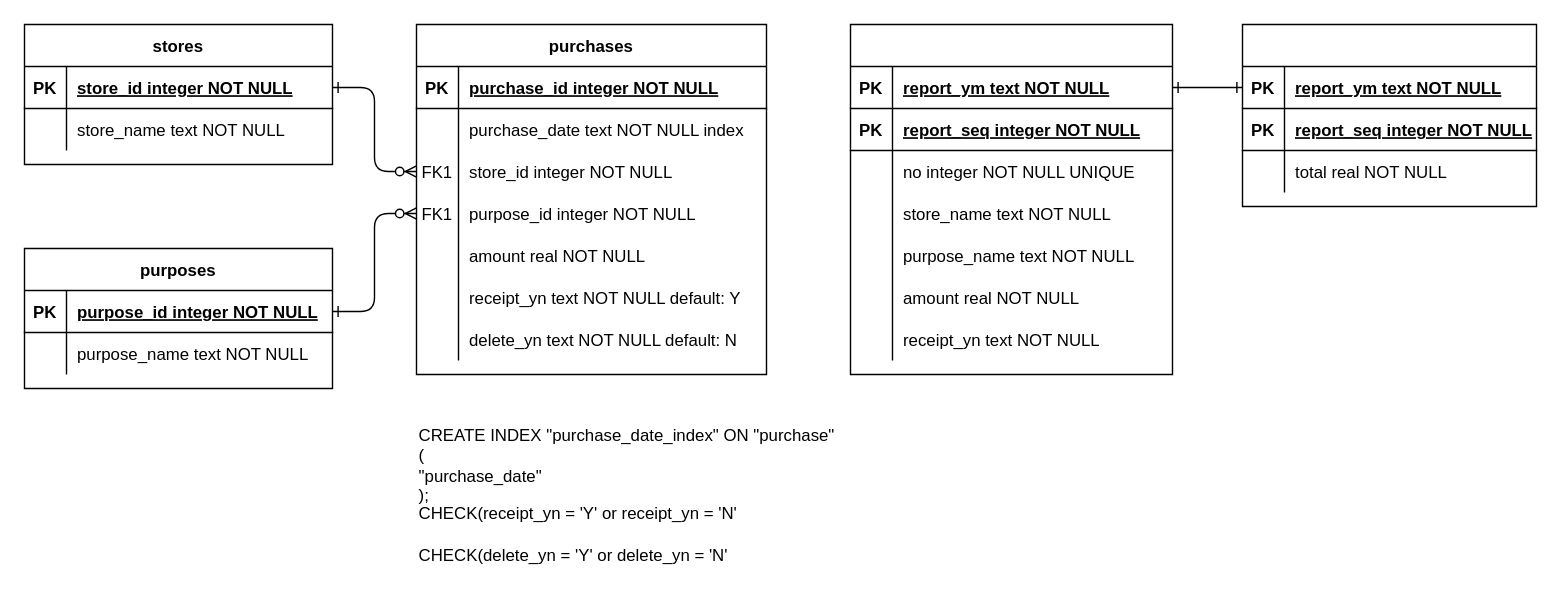
This 1561x595 diagram has some shape labels left out. The box of each missing label's shape, as (x1, y1, x2, y2) in pixels:
reports_detail: (849, 23, 1172, 374)
reports_master: (1241, 23, 1536, 206)
